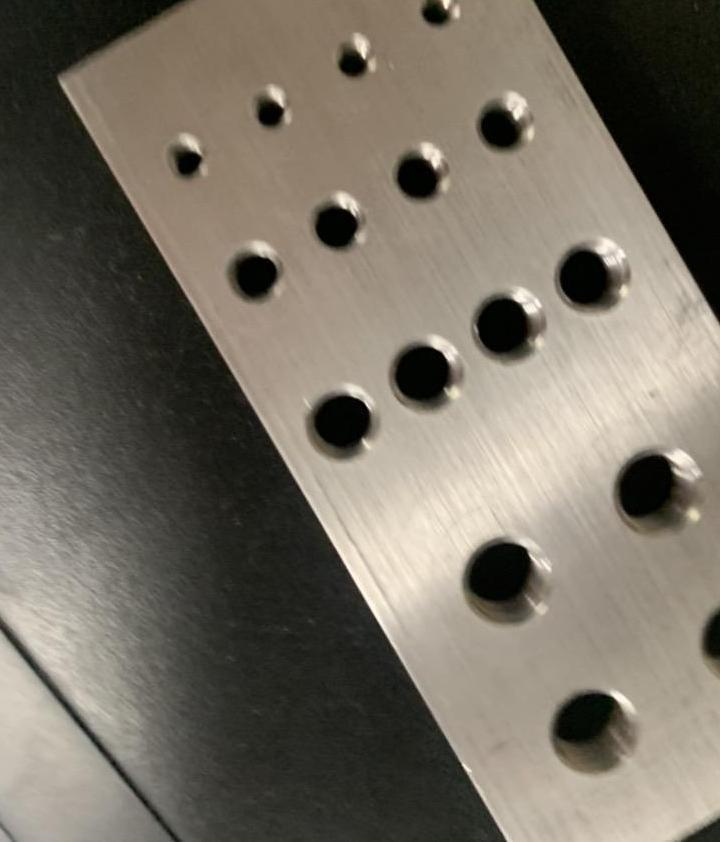hole: (549, 688, 643, 780), (460, 534, 554, 624), (614, 445, 700, 536), (292, 384, 378, 464), (384, 334, 464, 412), (471, 288, 550, 366), (562, 238, 633, 318), (228, 240, 295, 315), (308, 191, 371, 255), (391, 144, 454, 204), (476, 98, 540, 156), (156, 128, 210, 192), (330, 32, 386, 84), (250, 87, 306, 134), (412, 0, 468, 35), (702, 597, 720, 687)
